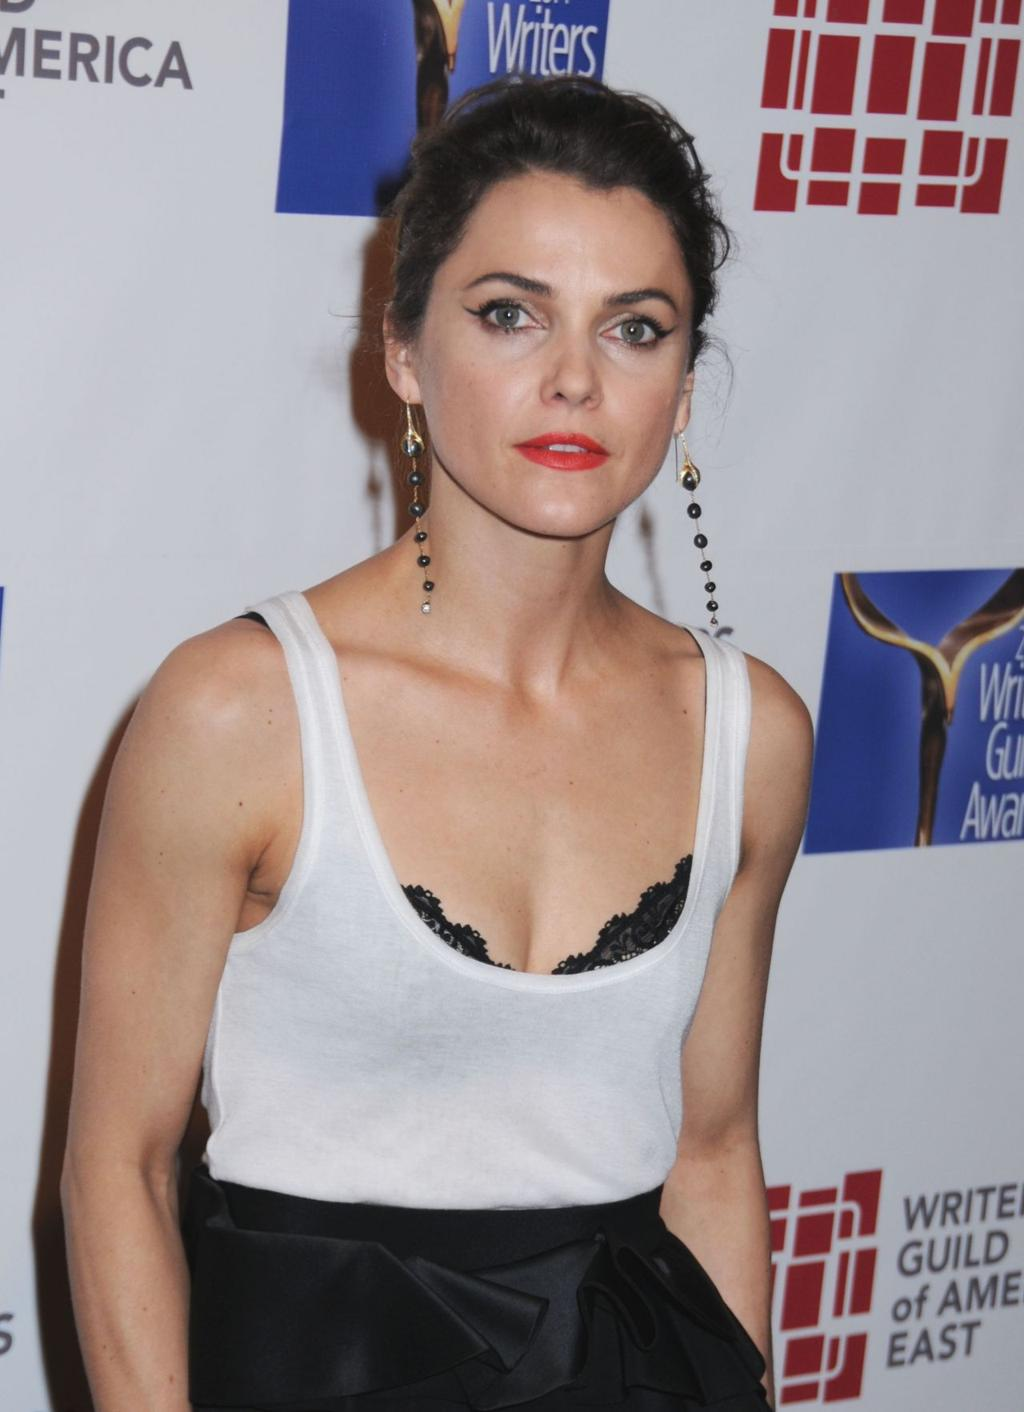face: (425, 171, 695, 535)
